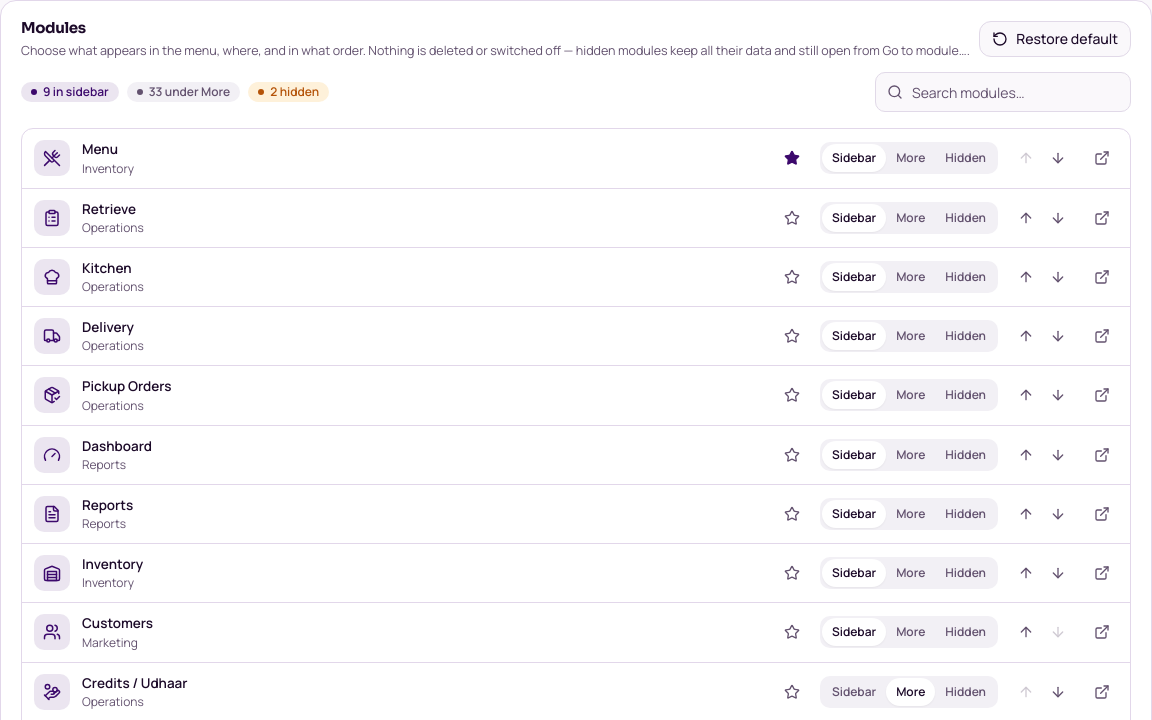
Test: Settings → Modules › Restore default puts everything back
The image size is (1152, 720).
Click the button "Restore default" at coordinates (1055, 39), box [979,21,1131,57]
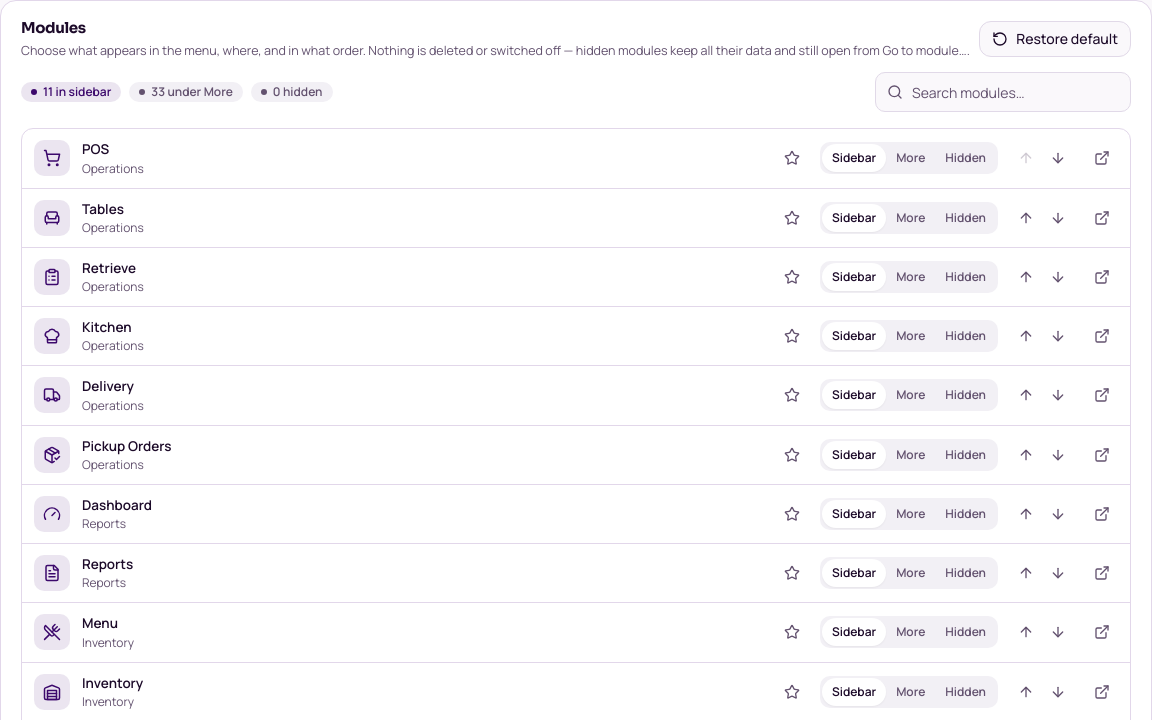
Result: the text "0 hidden" is shown at [251,82,332,102]
